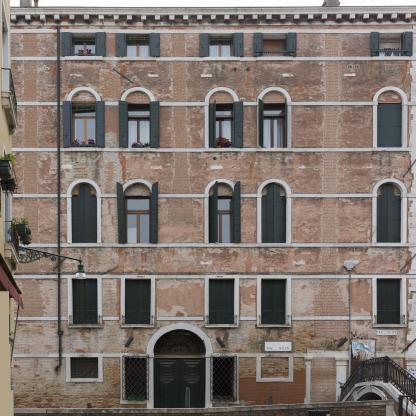Blind: (71, 195, 98, 243), (261, 195, 288, 243), (261, 279, 287, 325), (125, 278, 151, 324), (72, 278, 98, 324), (209, 278, 234, 324), (377, 104, 403, 148), (208, 181, 218, 243), (117, 182, 127, 243), (232, 181, 241, 243), (150, 182, 158, 243), (119, 100, 129, 148), (150, 101, 160, 148), (234, 102, 244, 148), (63, 101, 73, 147), (95, 101, 105, 147), (208, 99, 216, 148), (400, 32, 413, 56), (285, 32, 297, 57), (258, 99, 264, 147), (150, 32, 161, 57), (61, 32, 72, 56), (95, 32, 106, 56), (116, 33, 127, 57), (199, 33, 210, 57), (233, 33, 244, 57), (253, 32, 263, 56), (371, 31, 380, 56), (285, 98, 288, 148)
Building Outline: (0, 0, 416, 416)
Deco: (265, 342, 292, 351)
Door: (154, 358, 206, 416)
Facade: (12, 13, 415, 415)
Floor: (0, 170, 416, 263), (0, 78, 416, 170), (0, 263, 416, 341)
Floor Slab: (0, 164, 416, 170), (0, 257, 416, 263), (0, 336, 416, 341), (0, 73, 416, 78)
Ground Floor: (1, 342, 416, 409)
Molding: (10, 13, 412, 25)
Sill: (256, 56, 294, 61), (371, 242, 409, 247), (119, 56, 156, 61), (203, 56, 240, 61), (372, 56, 410, 60), (65, 56, 103, 60), (203, 148, 241, 152), (119, 148, 157, 152), (203, 243, 241, 247), (65, 148, 102, 152), (372, 148, 409, 152), (256, 148, 293, 152), (120, 243, 157, 247), (256, 243, 293, 247), (66, 243, 103, 247), (66, 324, 103, 328), (372, 324, 408, 328), (204, 324, 240, 328), (120, 324, 155, 328), (257, 324, 292, 328)
Top Floor: (0, 14, 416, 78)
Window: (153, 329, 206, 358), (71, 195, 98, 243), (376, 195, 403, 243), (124, 195, 151, 243), (208, 195, 235, 243), (261, 195, 288, 243), (72, 278, 98, 324), (125, 278, 151, 324), (261, 279, 287, 325), (377, 278, 402, 324), (209, 278, 234, 324), (377, 104, 403, 148), (71, 103, 97, 147), (125, 104, 151, 148), (262, 104, 288, 148), (209, 104, 234, 148), (125, 357, 147, 400), (213, 357, 234, 400), (209, 33, 234, 57), (125, 33, 150, 57), (378, 33, 404, 56), (70, 357, 98, 378), (71, 33, 96, 56), (262, 33, 287, 56)
